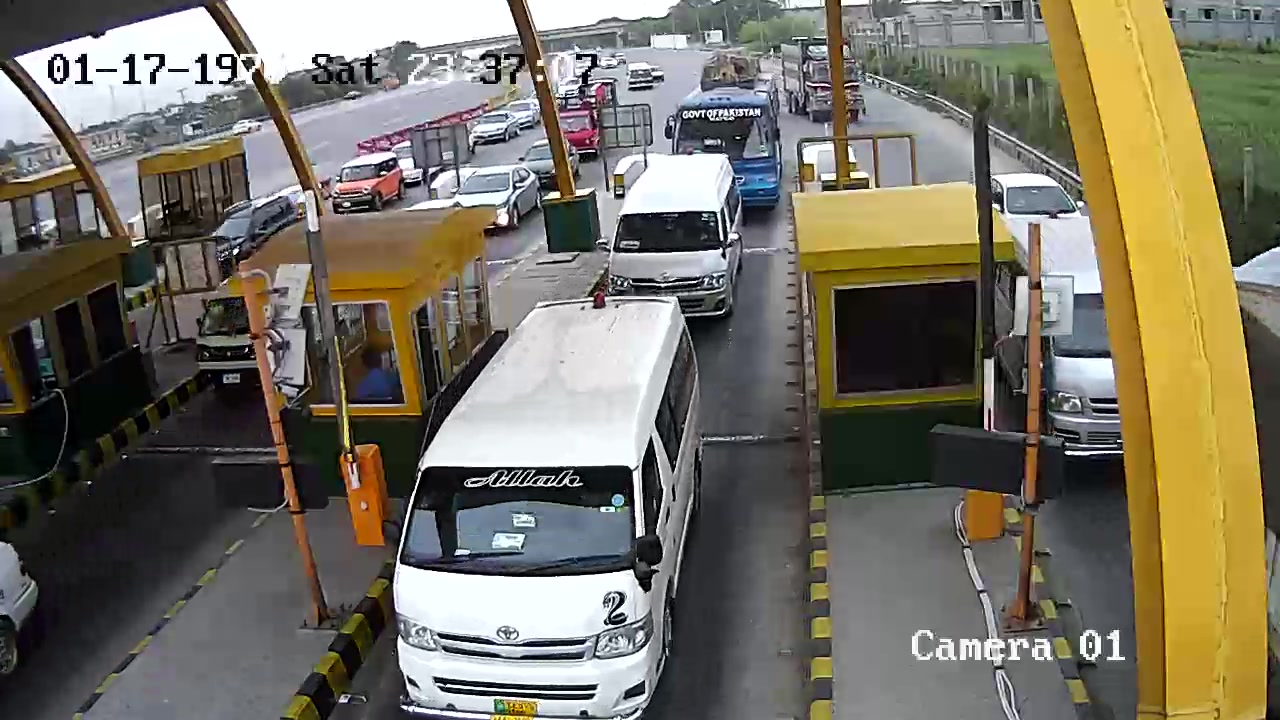F3: (388, 296, 729, 714), (600, 149, 751, 319)
